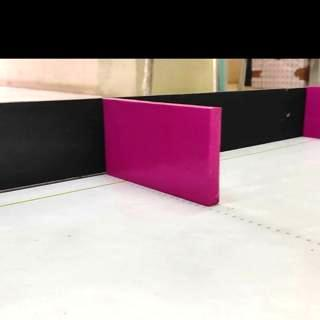xparking: (107, 109, 219, 197)
